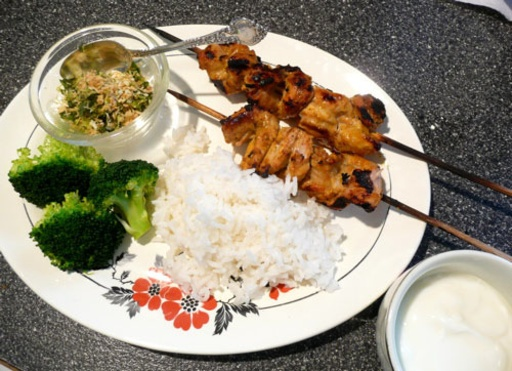background: (94, 58, 409, 214), (6, 24, 309, 177), (45, 34, 122, 79)
